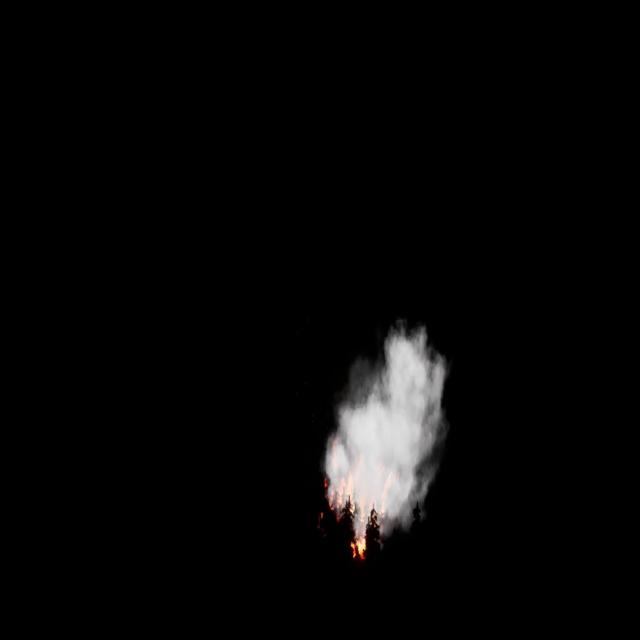fire: (324, 457, 398, 562)
smoke: (328, 320, 442, 538)
